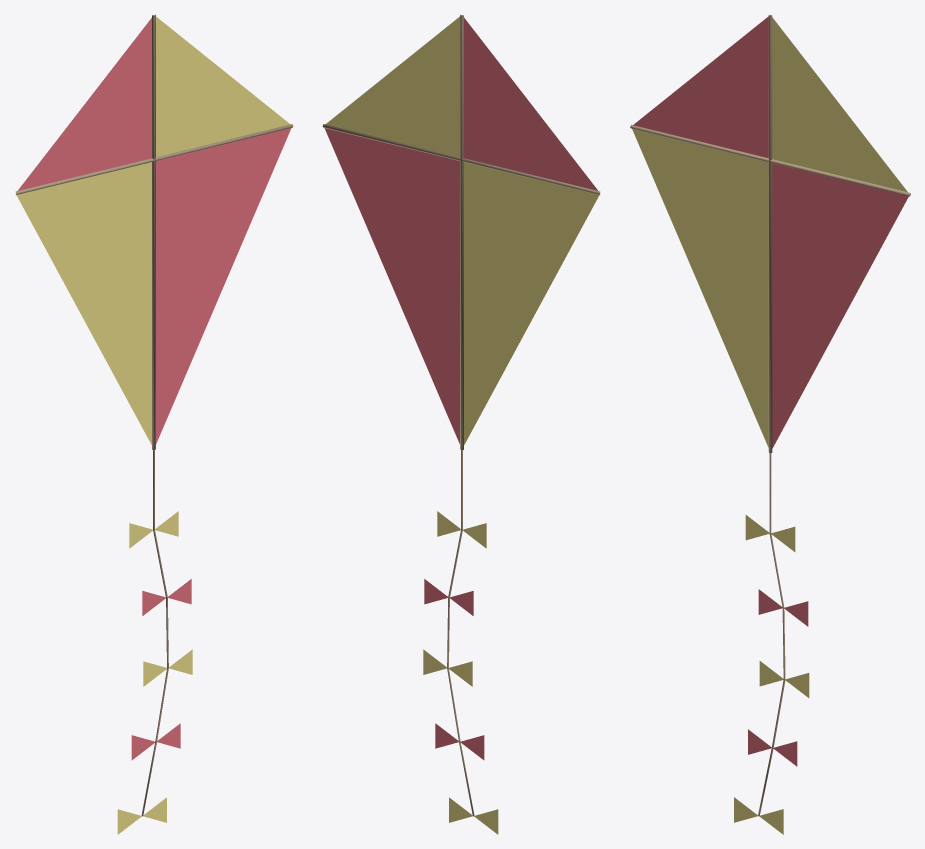
File: kite.glb
The picture shows the model from 3 angles, left to right: view 1: azimuth 30°, elevation 25°; view 2: azimuth 150°, elevation 25°; view 3: azimuth 330°, elevation 25°; orthographic projection.
Parts seen in each view (by area): view 1: Kite; view 2: Kite; view 3: Kite.
Part boxes in pixels (x1=…): Kite: x1=15, y1=14, x2=293, y2=834; Kite: x1=322, y1=14, x2=600, y2=834; Kite: x1=630, y1=15, x2=910, y2=834.
Bounding box in the file's own units: 0.9 × 2.52 × 0.012.
